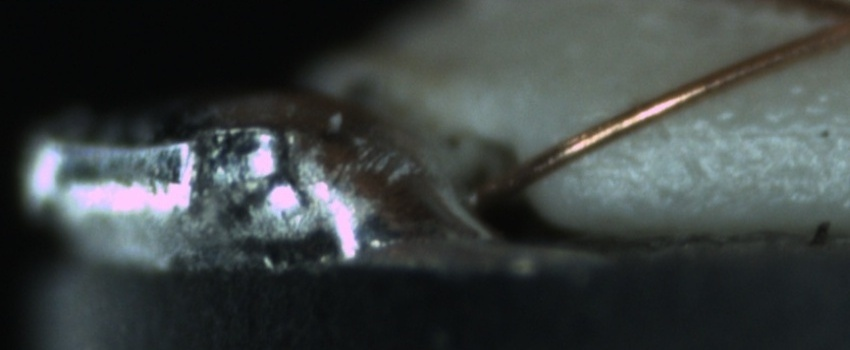DL: (632, 92, 849, 163)
